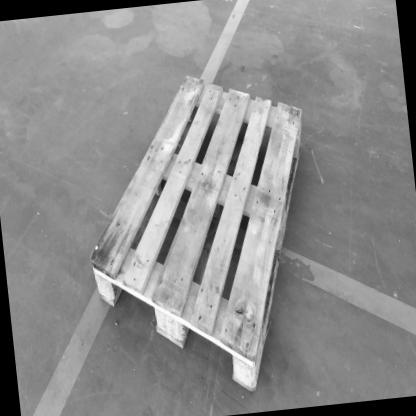BoxFace: (85, 65, 303, 395)
